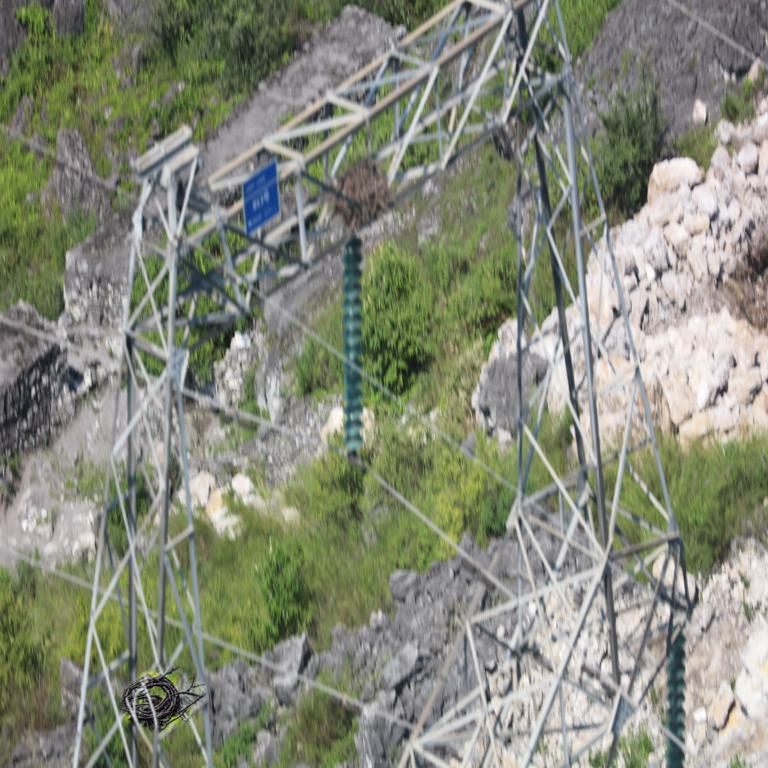nest: (123, 675, 190, 731), (335, 163, 392, 224)
